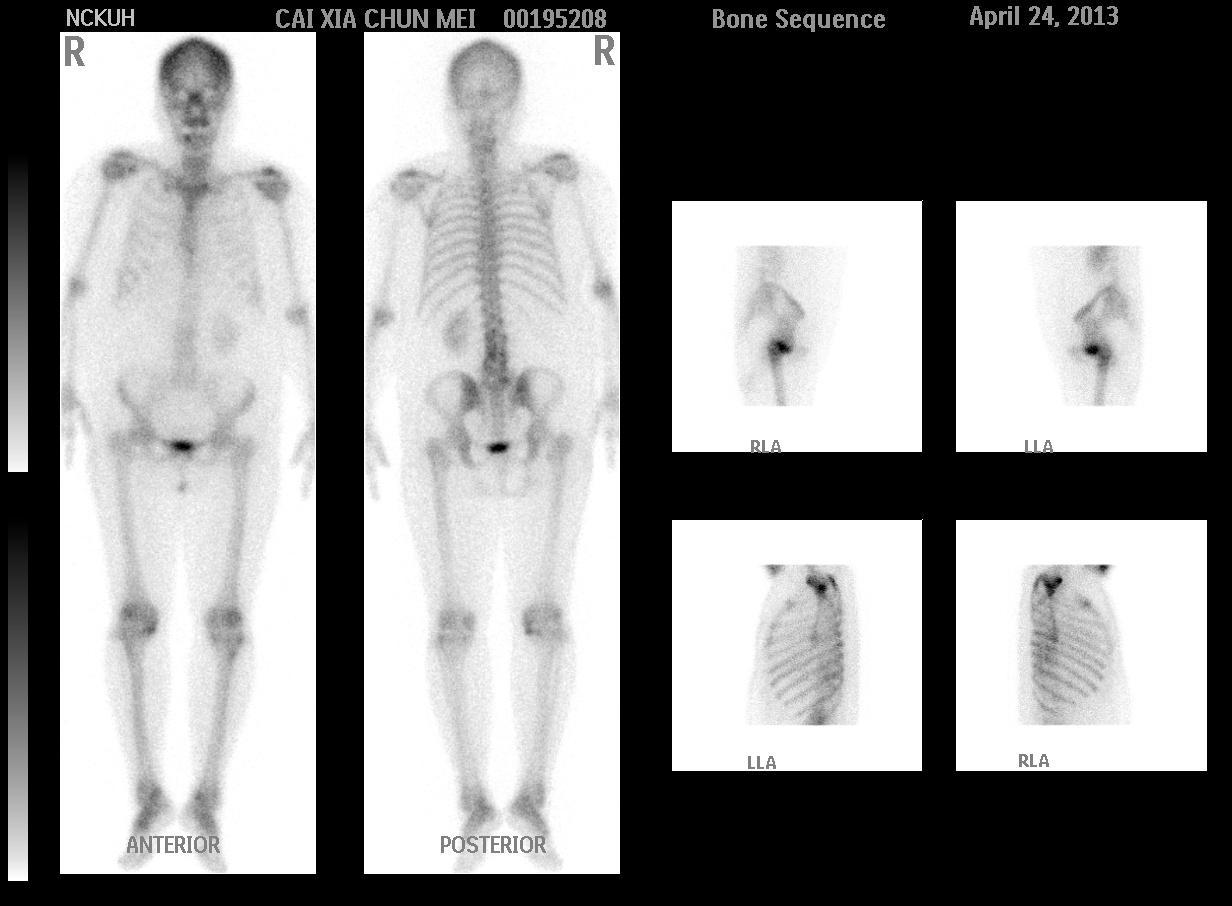person: (58, 30, 621, 876)
